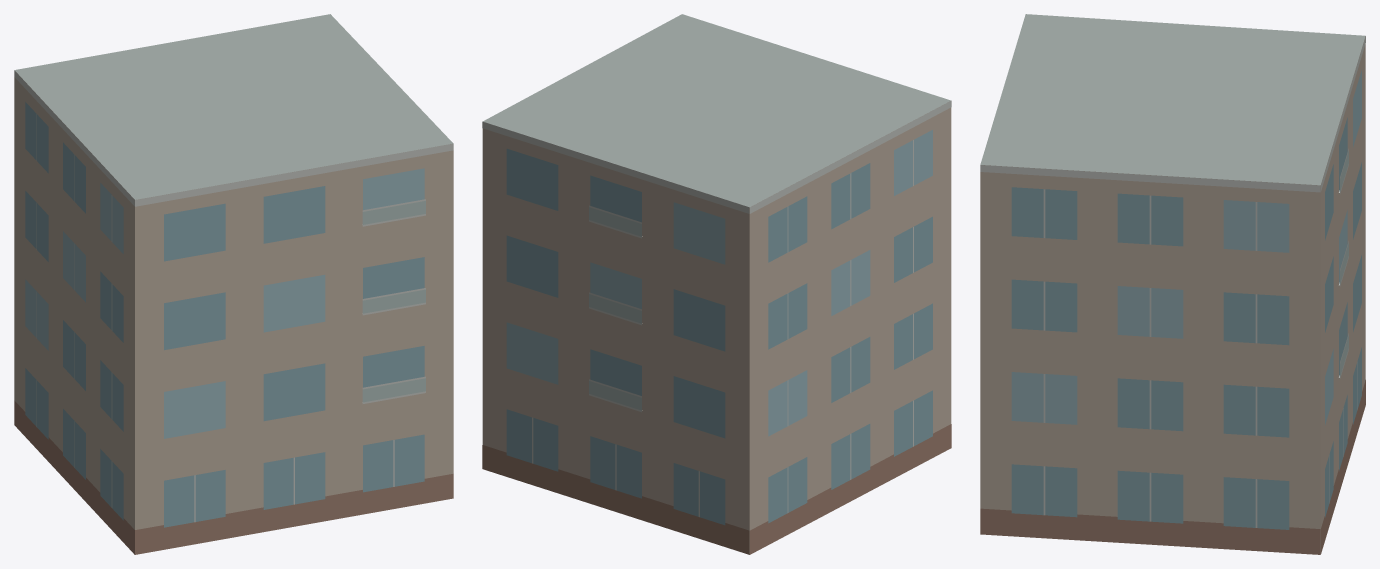
File: survey-upis-32732740.glb
3 renders of one model, left to right at view 1: azimuth 30°, elevation 25°; view 2: azimuth 150°, elevation 25°; view 3: azimuth 270°, elevation 25°, orthographic. The views are drawn at different scales.
Parts seen in each view (by area): view 1: survey-upis-32732740.tmp; view 2: survey-upis-32732740.tmp; view 3: survey-upis-32732740.tmp.
Part boxes in pixels (x1,y1,x2,y2): survey-upis-32732740.tmp: (14, 14, 453, 554); survey-upis-32732740.tmp: (482, 14, 951, 554); survey-upis-32732740.tmp: (980, 14, 1365, 554).
Bounding box in the file's own units: 12.59 × 12.65 × 11.97.
